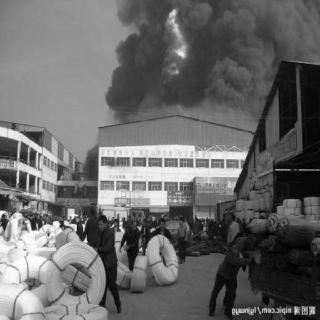Fire: (156, 7, 188, 87)
Smoke: (185, 3, 317, 109), (102, 2, 156, 116)
